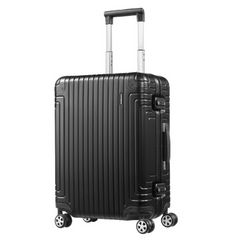luggage: (51, 8, 181, 234)
